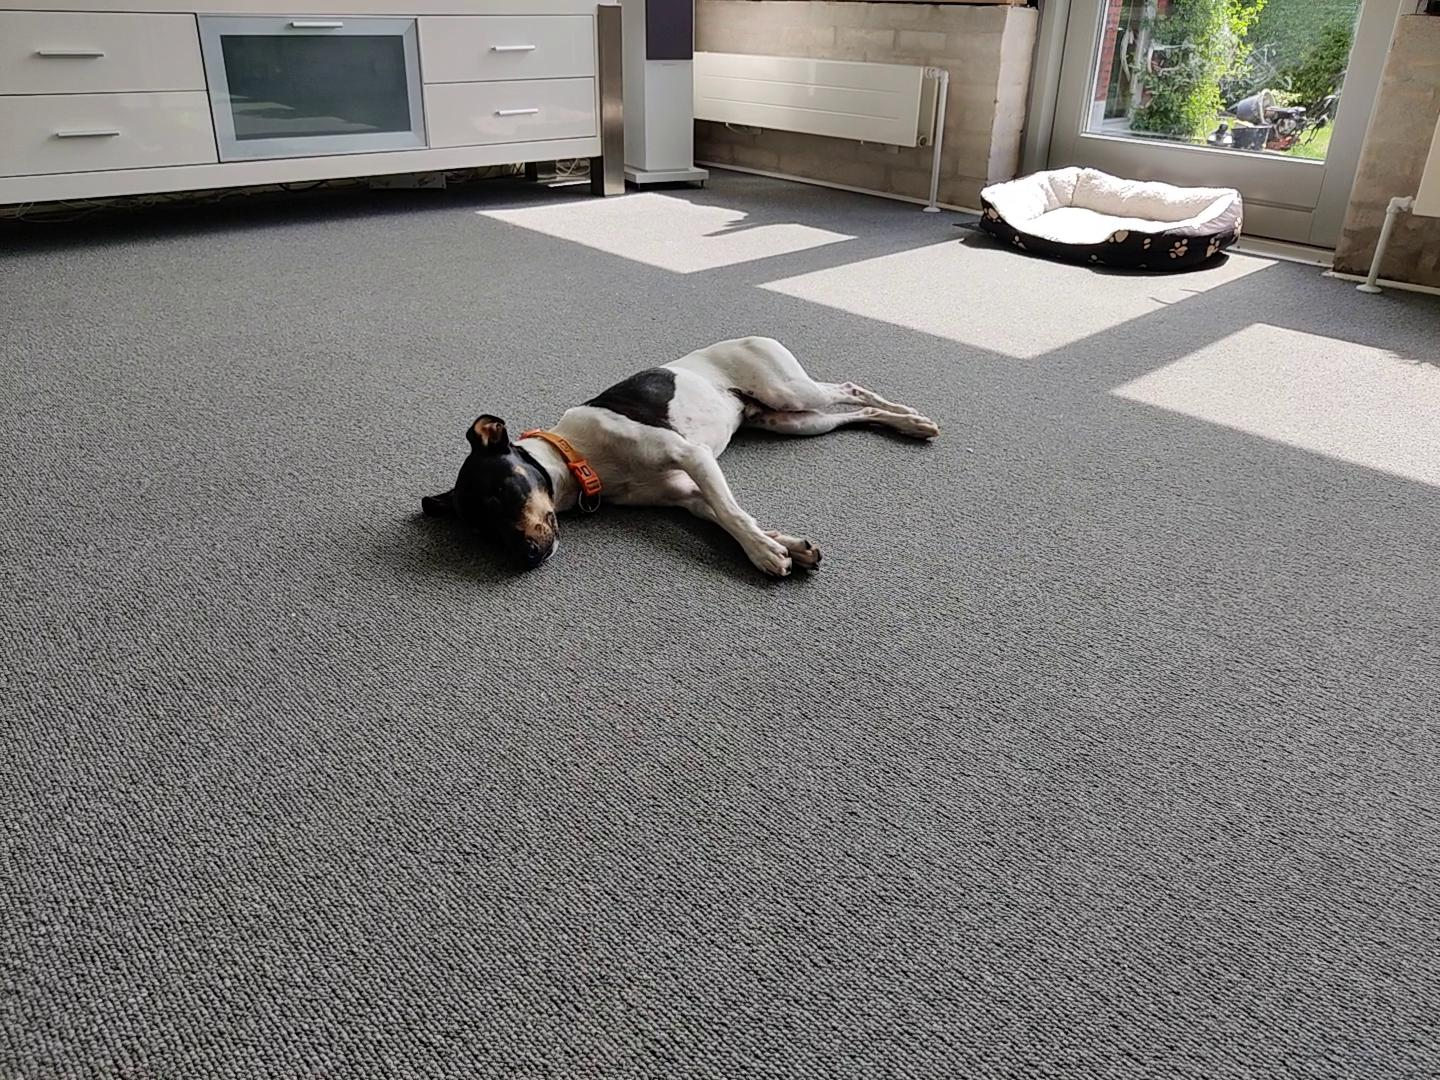Dog: (401, 327, 948, 602)
